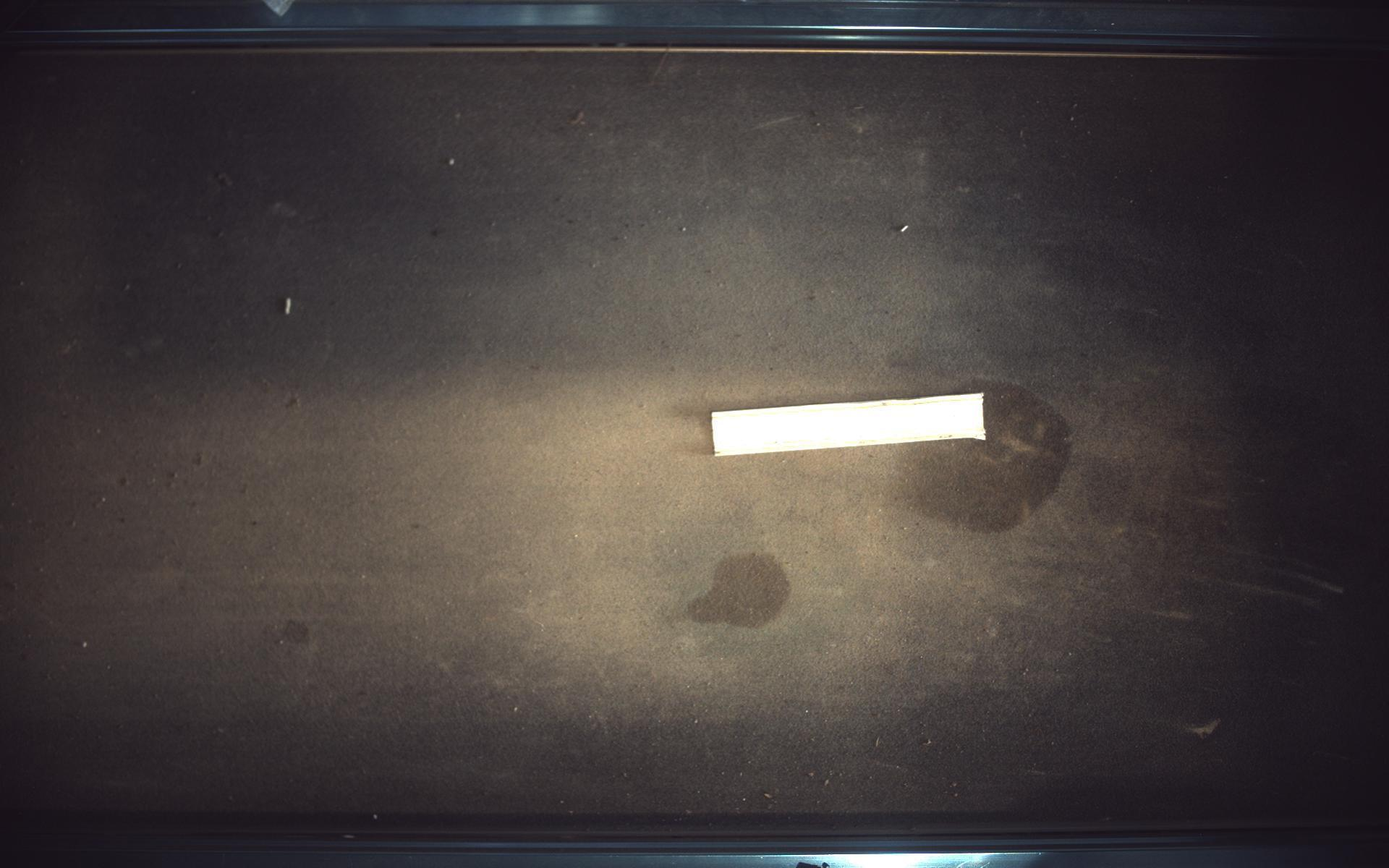pipes: (713, 393, 987, 456)
